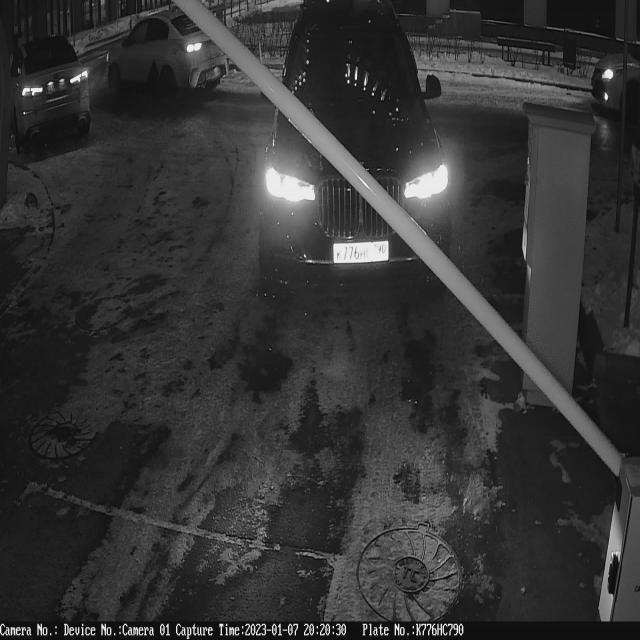car-plate-numbers: (330, 234, 393, 276)
